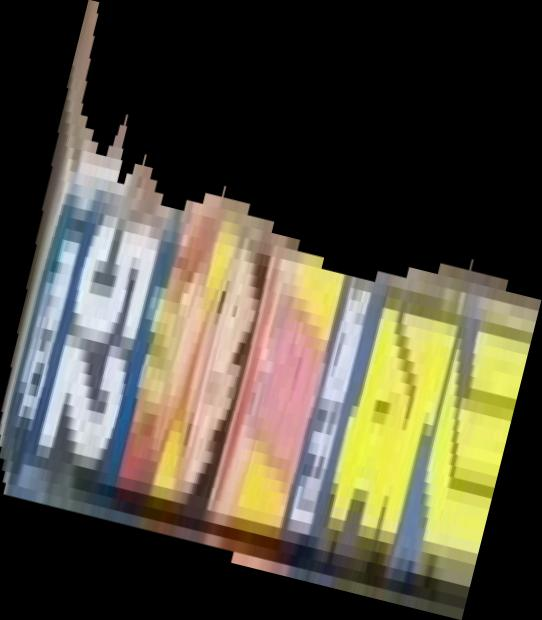flat: (1, 1, 542, 620)
